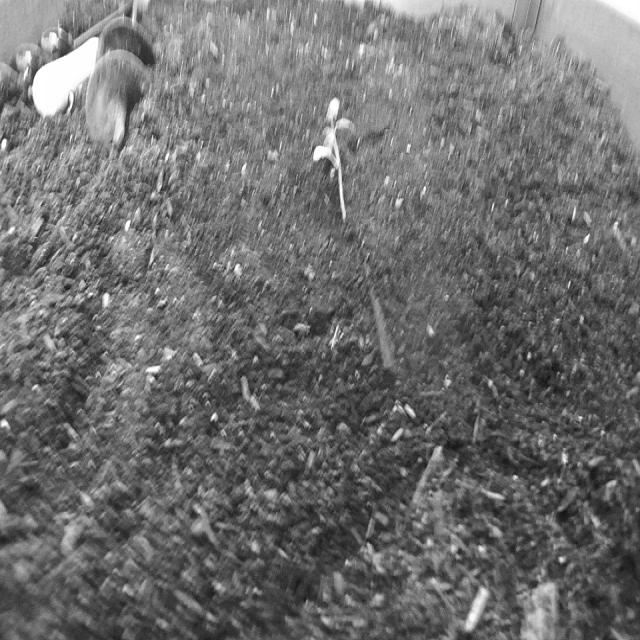Healthy: (310, 84, 358, 226)
